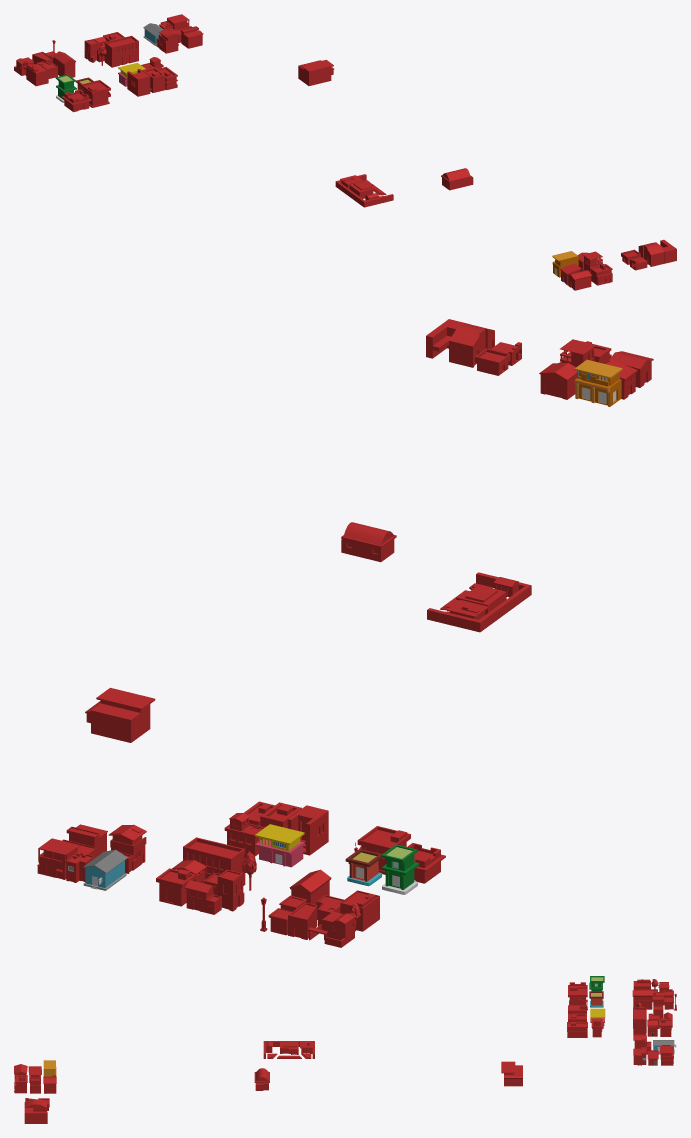
The model's file is background_buildings.fbx.
The picture shows the model from 3 angles, top to bottom: view 1: azimuth 30°, elevation 25°; view 2: azimuth 150°, elevation 25°; view 3: azimuth 270°, elevation 25°; orthographic projection. The views are drawn at different scales.
Parts seen in each view (by area): view 1: backroundbuildings_m; view 2: backroundbuildings_m; view 3: backroundbuildings_m.
Boxes of the visible parts, x1,y1,x2,y2 form: backroundbuildings_m: (14,14,676,290); backroundbuildings_m: (37,319,653,947); backroundbuildings_m: (14,976,676,1123).
Bounding box in the file's own units: 9078 × 678 × 19227.
